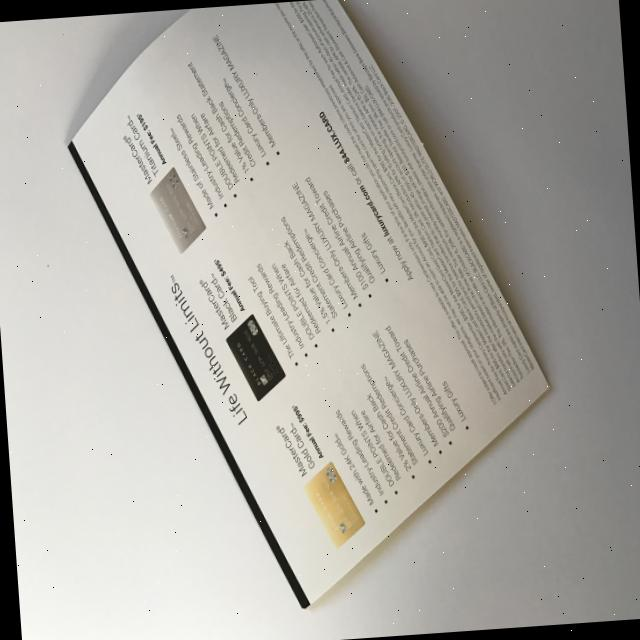paper: (57, 0, 564, 622)
